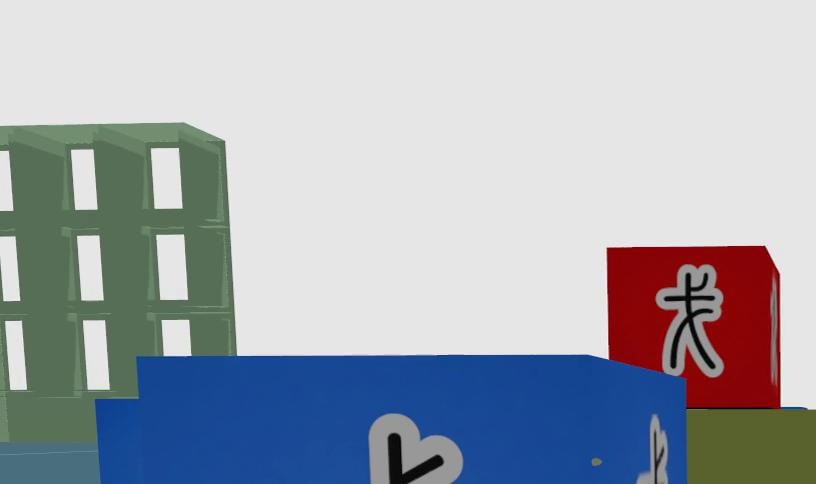KFS_FAKE: (607, 247, 782, 408), (657, 266, 723, 375)
KFS_REAL: (139, 355, 690, 484), (369, 415, 462, 484), (94, 398, 142, 484), (636, 414, 668, 484)
